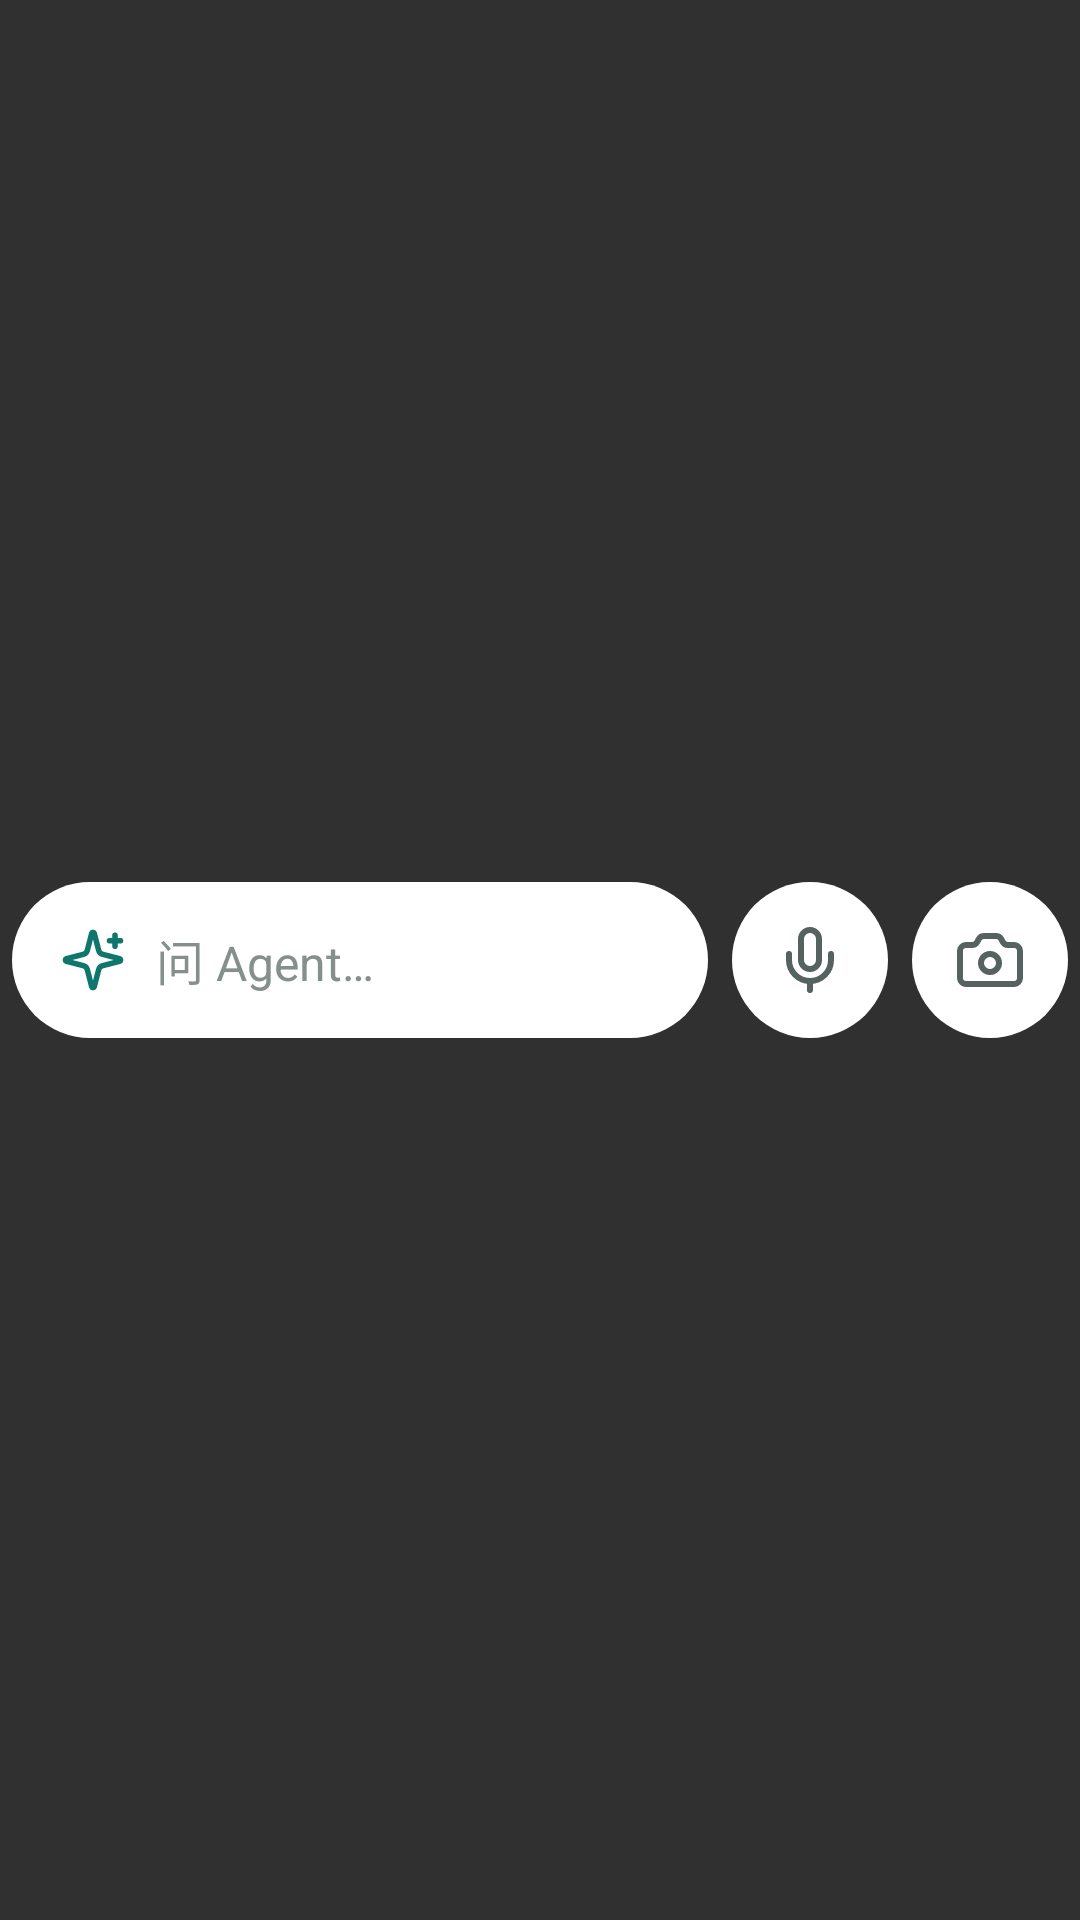

Point at icon controls on the screen. Image size 1080px×1920px, points as point (x, y).
widget camera: point (990, 960)
widget mic: point (810, 960)
widget sparkle: point (93, 960)
